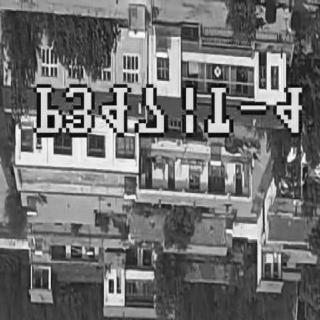other: (10, 88, 289, 130), (263, 212, 316, 246), (53, 257, 99, 295)
